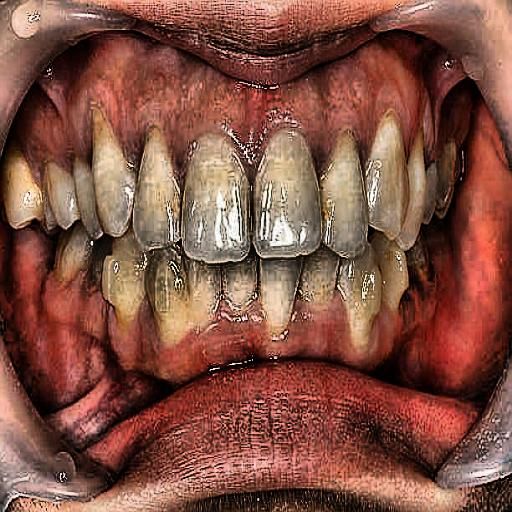Calculus: (31, 218, 441, 350), (1, 124, 489, 214)
